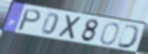0: (40, 12, 61, 37)
8: (80, 19, 100, 43)
D: (116, 23, 142, 50)
O: (99, 22, 120, 46)
P: (16, 8, 43, 33)
X: (57, 14, 84, 41)
